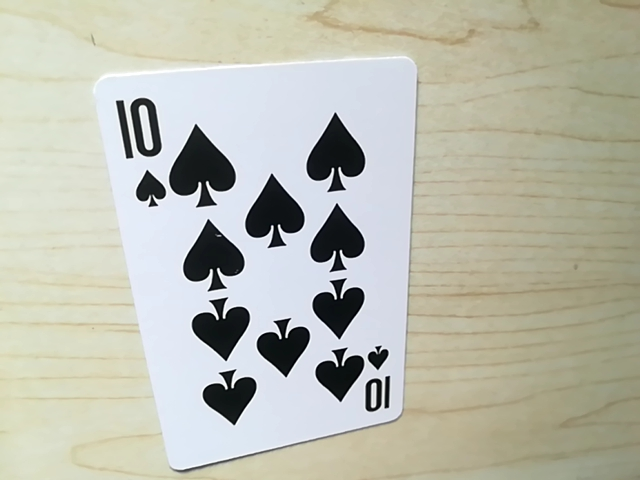ht 10: (113, 87, 177, 211), (358, 360, 395, 418)
